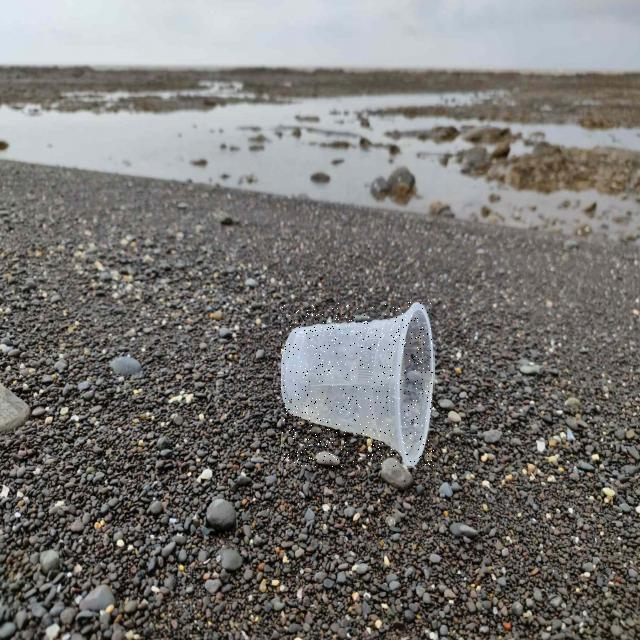plastic: (282, 303, 434, 467)
